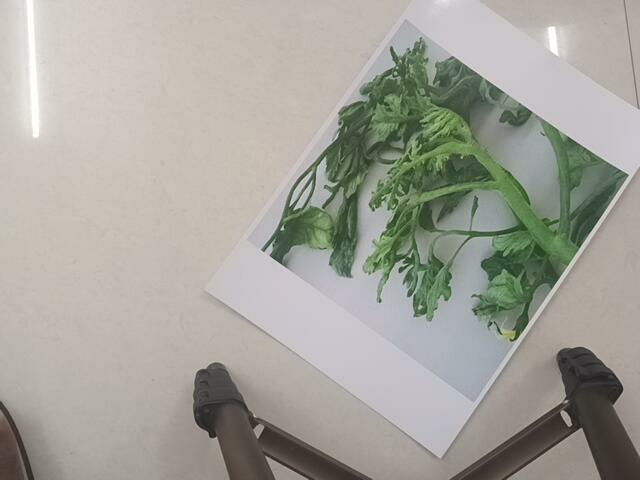Tomamto_Mosaic_virus: (284, 24, 603, 336)
